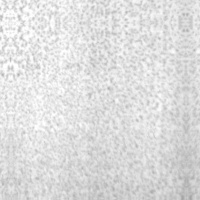pitted_surface: (11, 23, 187, 198)
